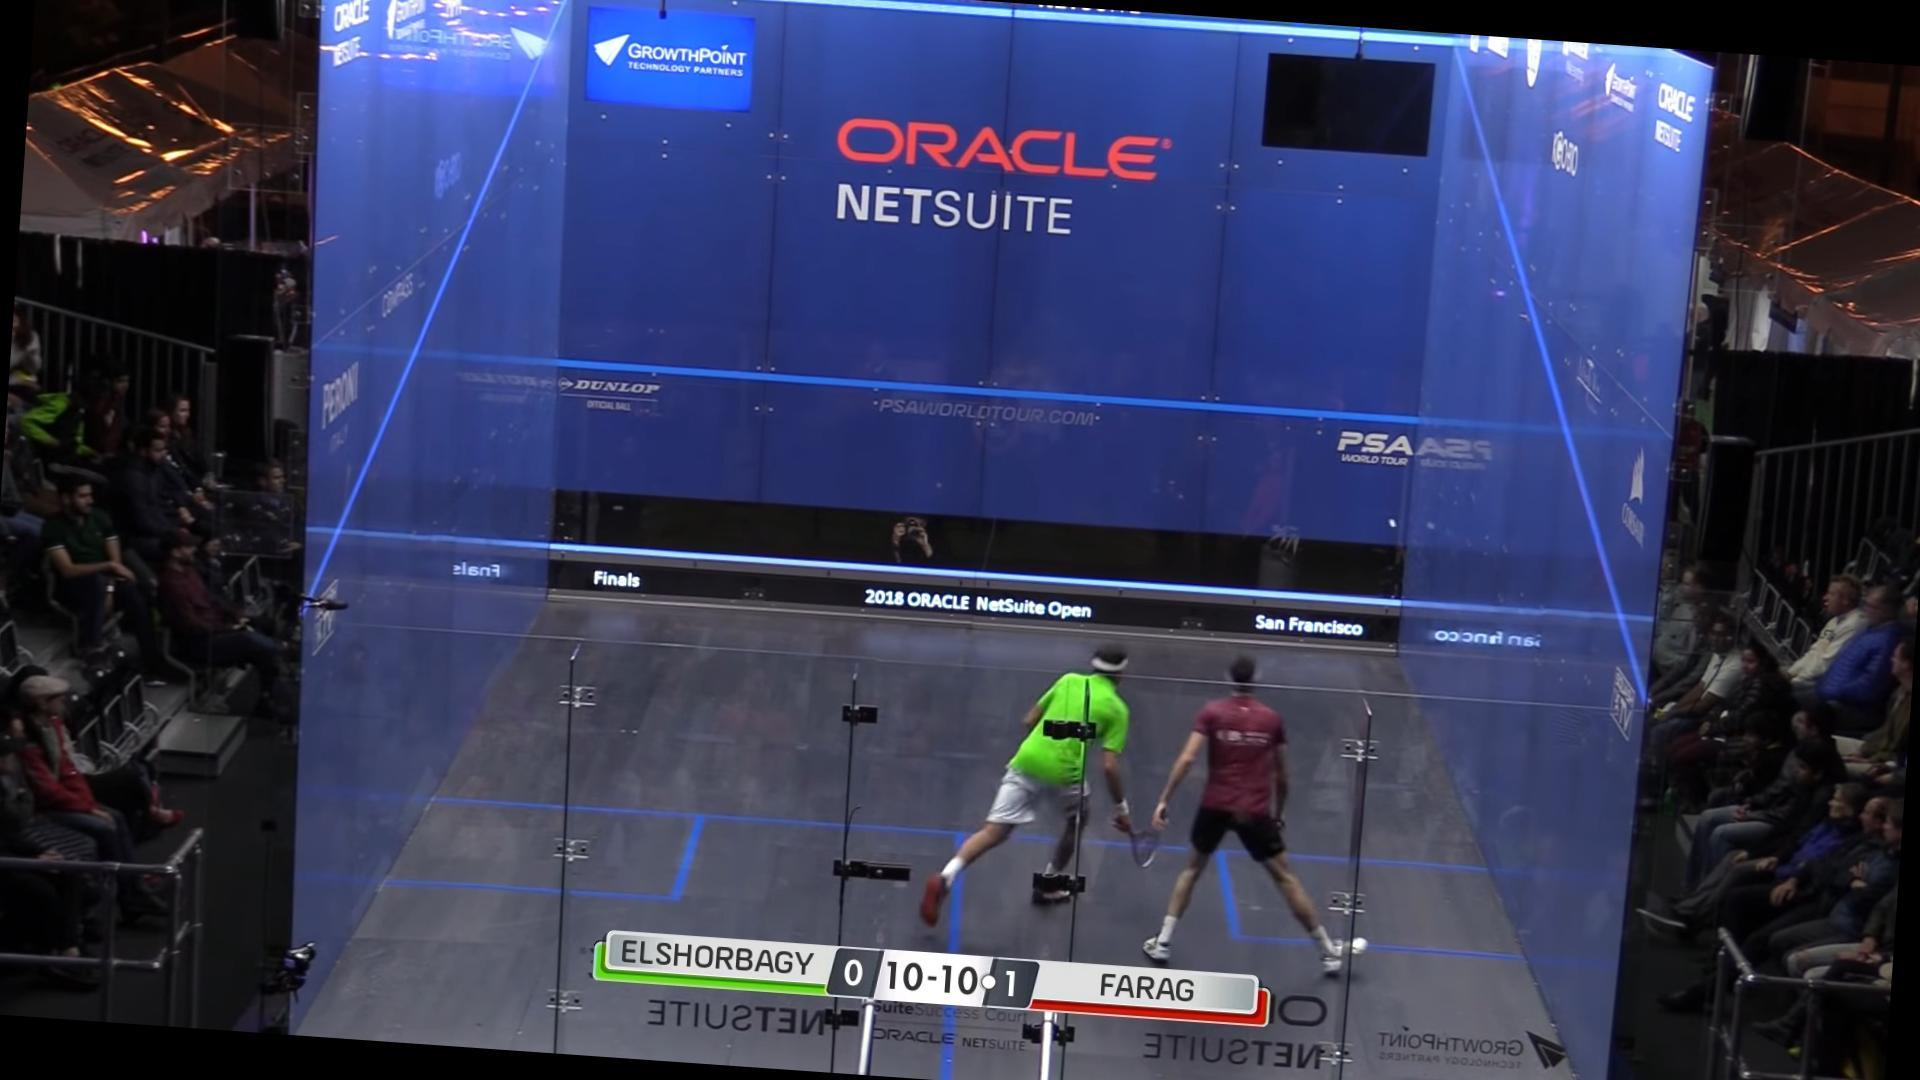Squash-Ball: (1385, 510, 1407, 533)
